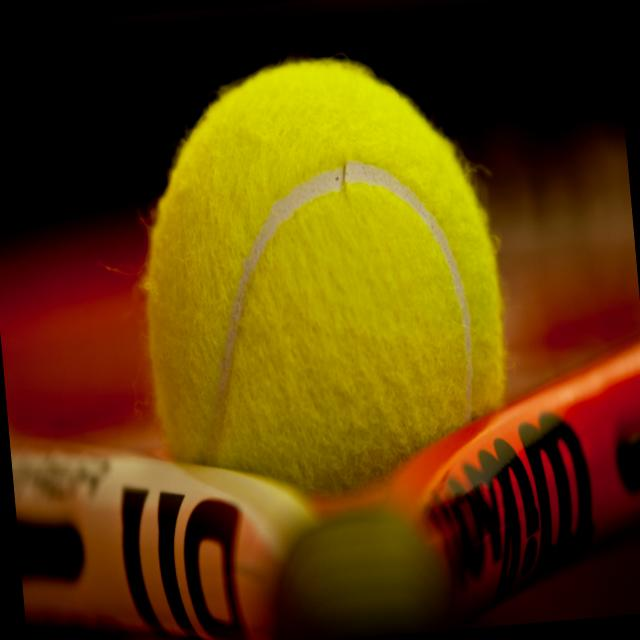Tennis Ball: (123, 42, 520, 510)
